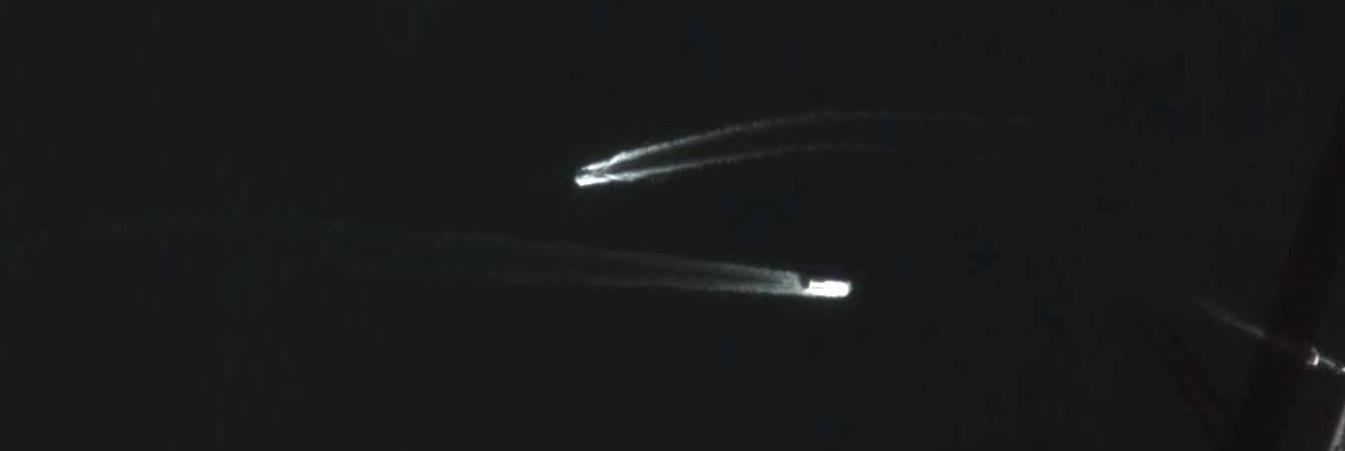person: (808, 279, 852, 297), (576, 167, 601, 177)
